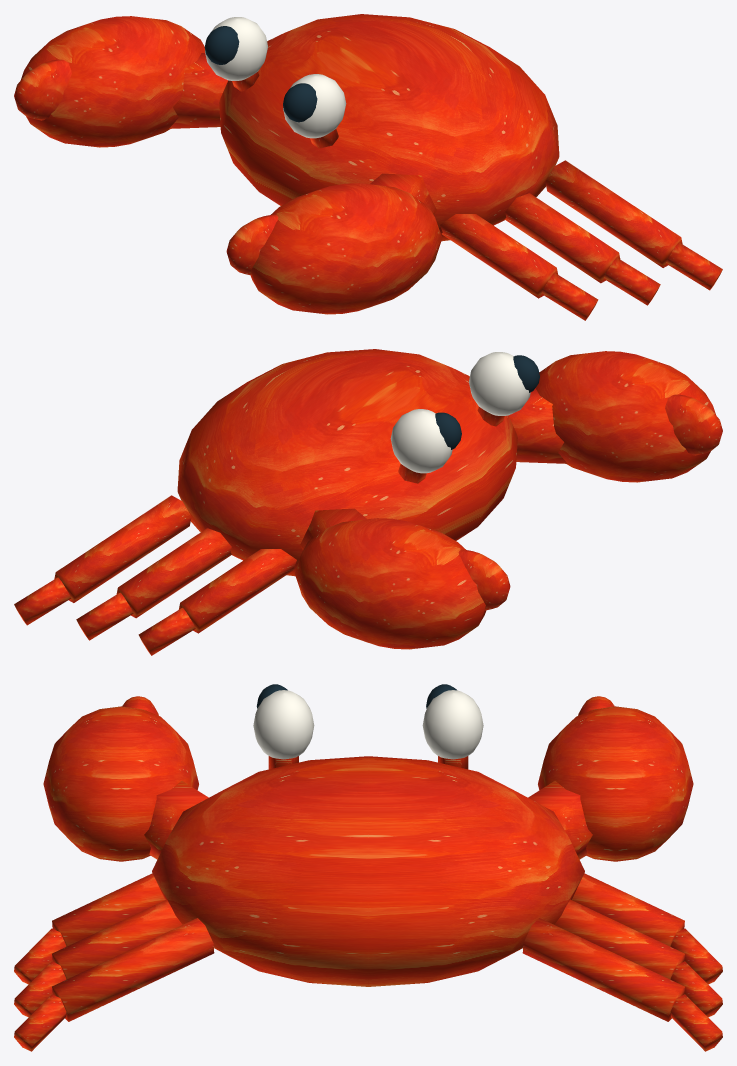
The model's file is crab-BuJqA9-3.glb.
The picture shows the model from 3 angles, top to bottom: view 1: azimuth 30°, elevation 25°; view 2: azimuth 150°, elevation 25°; view 3: azimuth 270°, elevation 25°; orthographic projection. The views are drawn at different scales.
Parts seen in each view (by area): view 1: crab_Batch_0, crab_Batch_1, crab_Batch_2; view 2: crab_Batch_0, crab_Batch_1, crab_Batch_2; view 3: crab_Batch_0, crab_Batch_1.
Boxes of the visible parts, <box> form: crab_Batch_0: <box>14,14,722,320</box>; crab_Batch_1: <box>205,17,346,138</box>; crab_Batch_2: <box>204,26,317,122</box>; crab_Batch_0: <box>14,349,722,655</box>; crab_Batch_1: <box>390,352,530,473</box>; crab_Batch_2: <box>435,355,539,449</box>; crab_Batch_0: <box>14,696,722,1051</box>; crab_Batch_1: <box>253,690,483,759</box>.
Bounding box in the file's own units: 1.64 × 0.6809 × 2.09.
Materials: 3 (1 with a texture image).
